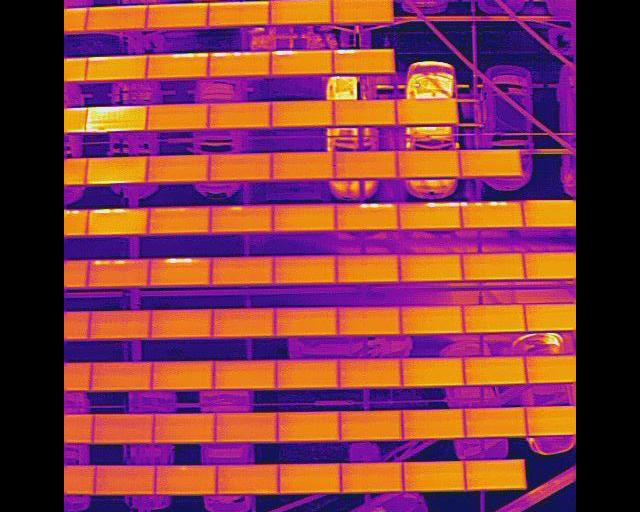Cell: (211, 204, 274, 233)
Cell-Multi: (462, 200, 524, 228)
No-Anomaly: (340, 410, 404, 441), (404, 459, 466, 491), (88, 308, 151, 339), (278, 411, 341, 442), (93, 464, 158, 494), (210, 254, 274, 284), (154, 463, 217, 493), (215, 463, 278, 493), (340, 462, 403, 492), (93, 414, 158, 443), (148, 308, 213, 337), (214, 413, 279, 442), (334, 150, 399, 179), (337, 358, 402, 387), (400, 410, 465, 439), (276, 358, 340, 387), (338, 306, 402, 335), (401, 358, 465, 387), (465, 459, 526, 489), (466, 408, 527, 438), (464, 356, 527, 385), (271, 152, 334, 181), (272, 98, 335, 127), (401, 305, 464, 334), (85, 156, 150, 184), (273, 255, 338, 283), (91, 362, 155, 390), (211, 307, 275, 335), (275, 307, 339, 335), (278, 464, 342, 492), (148, 204, 211, 232), (209, 152, 272, 180), (273, 203, 336, 231), (151, 415, 216, 442), (83, 4, 147, 31), (150, 361, 214, 388), (399, 253, 463, 280), (463, 305, 526, 332), (397, 98, 460, 125), (398, 150, 461, 177), (212, 361, 277, 387), (331, 98, 396, 124), (336, 255, 398, 282), (461, 253, 525, 279), (144, 156, 210, 181), (208, 102, 271, 128), (147, 103, 209, 129), (207, 1, 271, 26), (145, 4, 210, 28), (460, 151, 522, 176), (331, 0, 394, 23), (270, 0, 332, 23)
Unclassified: (335, 202, 400, 230), (88, 258, 149, 287), (88, 207, 151, 234), (149, 258, 212, 285), (400, 202, 462, 228), (270, 50, 334, 75), (85, 106, 148, 131), (86, 55, 149, 80), (146, 53, 209, 78), (208, 51, 270, 76), (333, 48, 394, 72)
